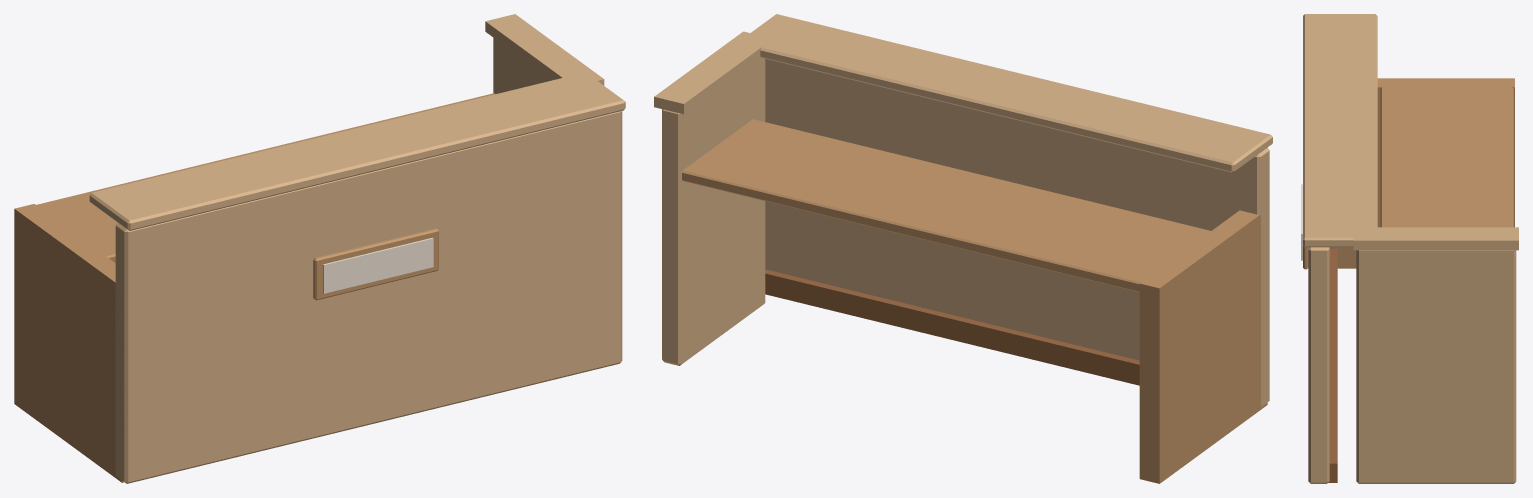
The model's file is desk_helpdesk.glb.
3 views of the same model, side by side, from view 1: azimuth 30°, elevation 25°; view 2: azimuth 150°, elevation 25°; view 3: azimuth 270°, elevation 25° (orthographic). The views are drawn at different scales.
Parts seen in each view (by area): view 1: desk_helpdesk; view 2: desk_helpdesk; view 3: desk_helpdesk.
Boxes of the visible parts, x1=… form: desk_helpdesk: x1=14, y1=14, x2=625, y2=483; desk_helpdesk: x1=654, y1=14, x2=1272, y2=483; desk_helpdesk: x1=1301, y1=14, x2=1518, y2=483.
Bounding box in the file's own units: 2.02 × 1.02 × 0.817.
1 material, 1 textured.
